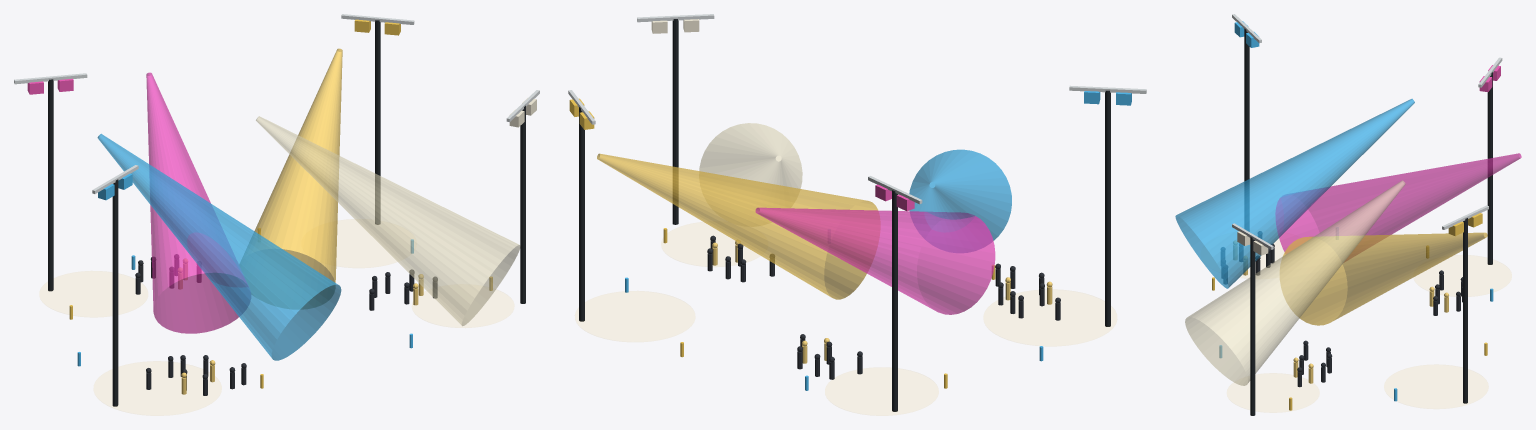
Rendered from esplanade-concert-cutaway.glb.
3 views of the same model, side by side, from view 1: azimuth 30°, elevation 25°; view 2: azimuth 150°, elevation 25°; view 3: azimuth 270°, elevation 25° (orthographic). The views are drawn at different scales.
Visible parts, largest first — view 1: blue waterfront tower light wash, warm bay tower light wash, magenta plaza tower light wash, amber mall tower light wash, event glow pool 0, event glow pool 1, event glow pool 2, event glow pool 3, blue waterfront tower mast, magenta plaza tower mast, amber mall tower mast, warm bay tower mast; view 2: amber mall tower light wash, magenta plaza tower light wash, blue waterfront tower light wash, warm bay tower light wash, event glow pool 0, event glow pool 2, event glow pool 1, event glow pool 3, blue waterfront tower mast, warm bay tower mast, magenta plaza tower mast, amber mall tower mast; view 3: warm bay tower light wash, blue waterfront tower light wash, amber mall tower light wash, magenta plaza tower light wash, event glow pool 2, event glow pool 1, event glow pool 3, blue waterfront tower mast, magenta plaza tower mast, warm bay tower mast, amber mall tower mast.
Part boxes in pixels (<box>): blue waterfront tower light wash: <box>97,133,341,360</box>; warm bay tower light wash: <box>256,116,520,325</box>; magenta plaza tower light wash: <box>146,72,250,333</box>; amber mall tower light wash: <box>240,48,342,308</box>; event glow pool 0: <box>94,361,221,415</box>; event glow pool 1: <box>40,271,147,316</box>; event glow pool 2: <box>337,219,396,267</box>; event glow pool 3: <box>412,290,513,327</box>; blue waterfront tower mast: <box>112,179,118,406</box>; magenta plaza tower mast: <box>48,79,53,291</box>; amber mall tower mast: <box>375,20,380,224</box>; warm bay tower mast: <box>520,105,525,303</box>; amber mall tower light wash: <box>597,153,879,299</box>; magenta plaza tower light wash: <box>755,207,995,314</box>; blue waterfront tower light wash: <box>909,149,1011,252</box>; warm bay tower light wash: <box>699,123,802,226</box>; event glow pool 0: <box>984,290,1116,345</box>; event glow pool 2: <box>575,291,694,341</box>; event glow pool 1: <box>825,368,938,415</box>; event glow pool 3: <box>661,222,758,266</box>; blue waterfront tower mast: <box>1105,90,1110,326</box>; warm bay tower mast: <box>672,19,678,224</box>; magenta plaza tower mast: <box>892,190,897,411</box>; amber mall tower mast: <box>579,107,584,321</box>; warm bay tower light wash: <box>1185,180,1405,385</box>; blue waterfront tower light wash: <box>1175,98,1414,288</box>; amber mall tower light wash: <box>1280,232,1487,325</box>; magenta plaza tower light wash: <box>1275,153,1521,261</box>; event glow pool 2: <box>1384,365,1487,408</box>; event glow pool 1: <box>1414,255,1511,296</box>; event glow pool 3: <box>1227,373,1318,412</box>; blue waterfront tower mast: <box>1244,28,1249,231</box>; magenta plaza tower mast: <box>1487,72,1492,264</box>; warm bay tower mast: <box>1250,236,1255,415</box>; amber mall tower mast: <box>1463,218,1467,403</box>.
Bounding box in the file's own units: 33.57 × 15.61 × 23.76.
